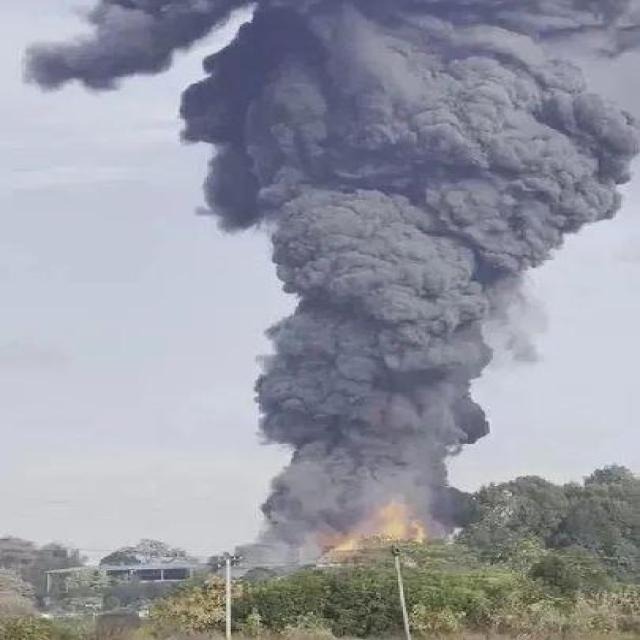Smoke: (25, 2, 640, 466), (240, 468, 469, 552)
